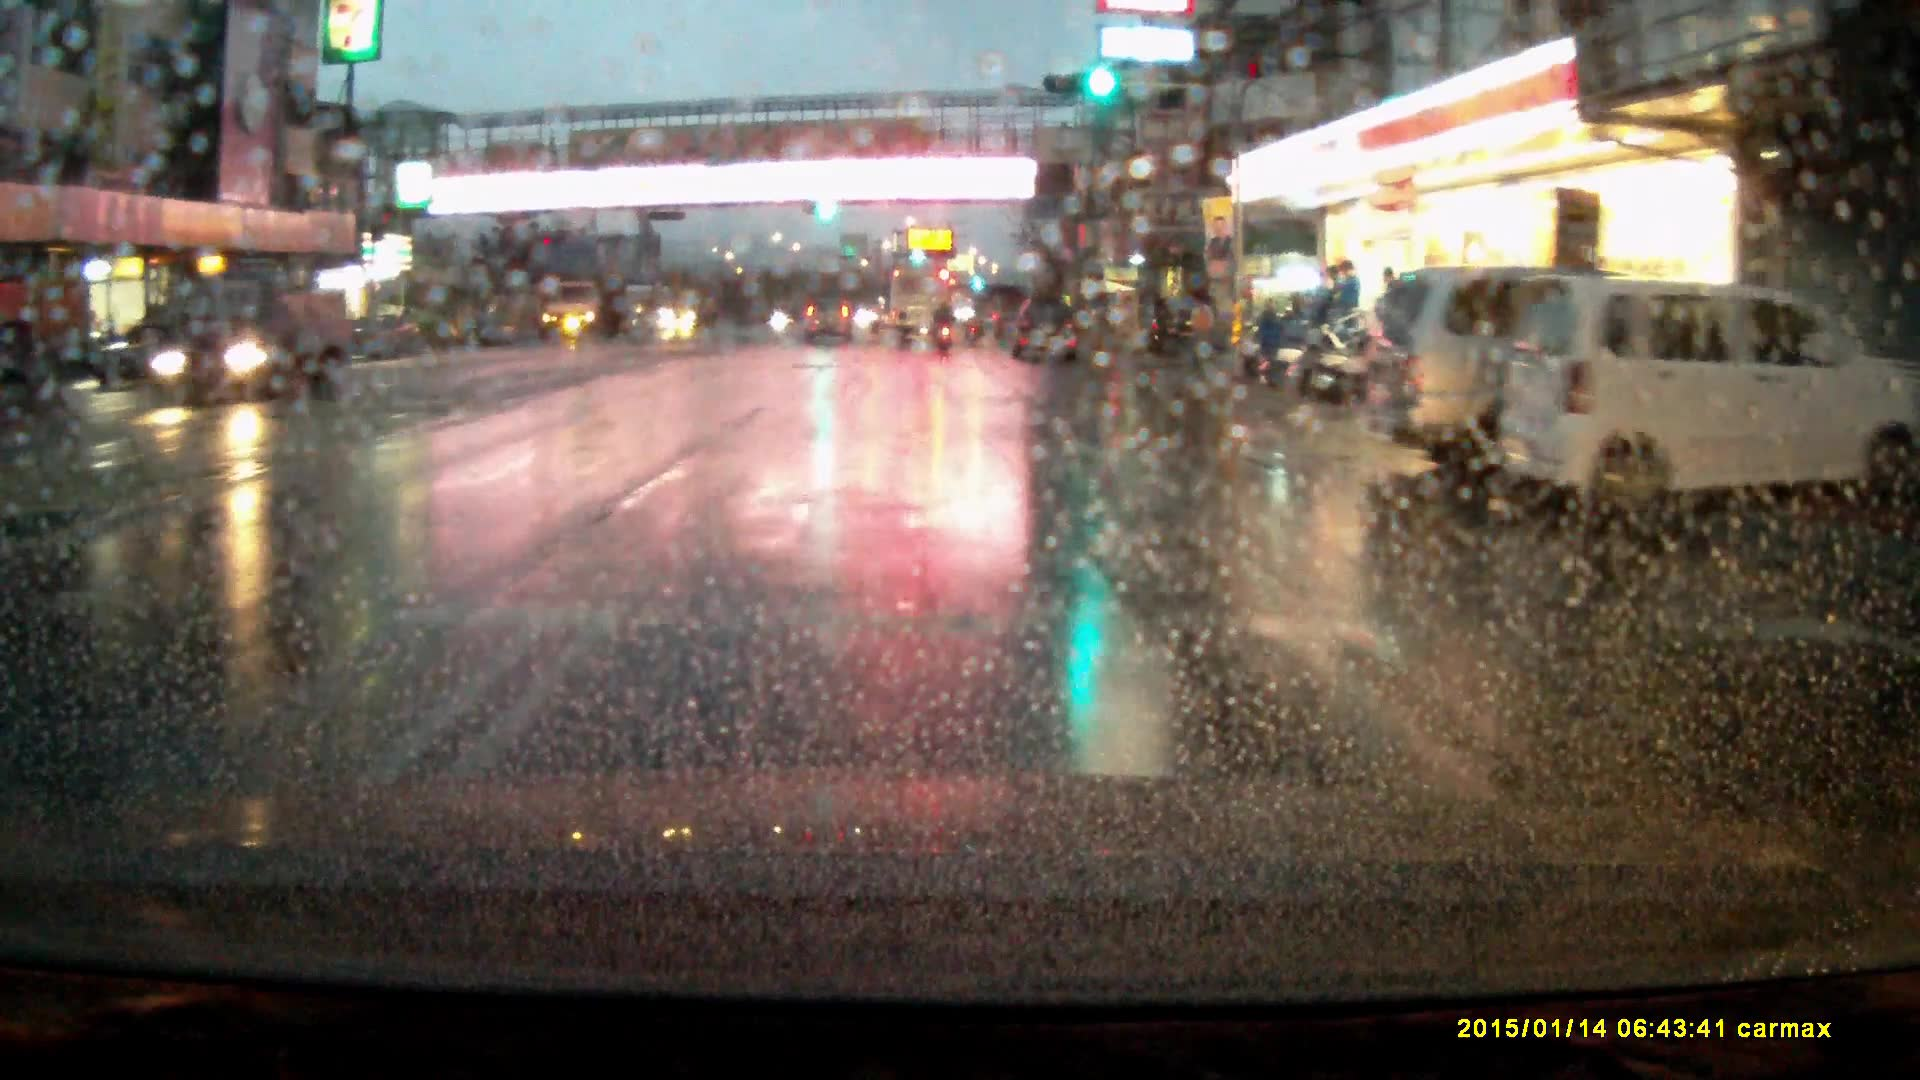rider: (936, 301, 959, 354)
vehicle: (1501, 270, 1876, 523), (1357, 262, 1675, 473), (138, 261, 349, 411), (1010, 287, 1081, 361), (891, 265, 956, 342), (544, 278, 622, 341), (1140, 293, 1219, 353), (665, 279, 722, 330), (801, 297, 855, 348)
